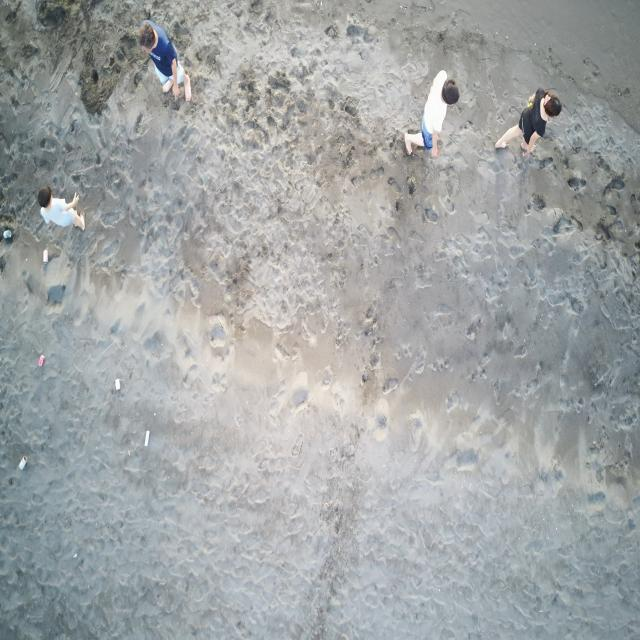Garbage: (18, 456, 26, 468), (4, 228, 12, 240), (37, 354, 44, 366), (43, 248, 48, 263), (115, 377, 120, 390), (144, 430, 148, 446)
